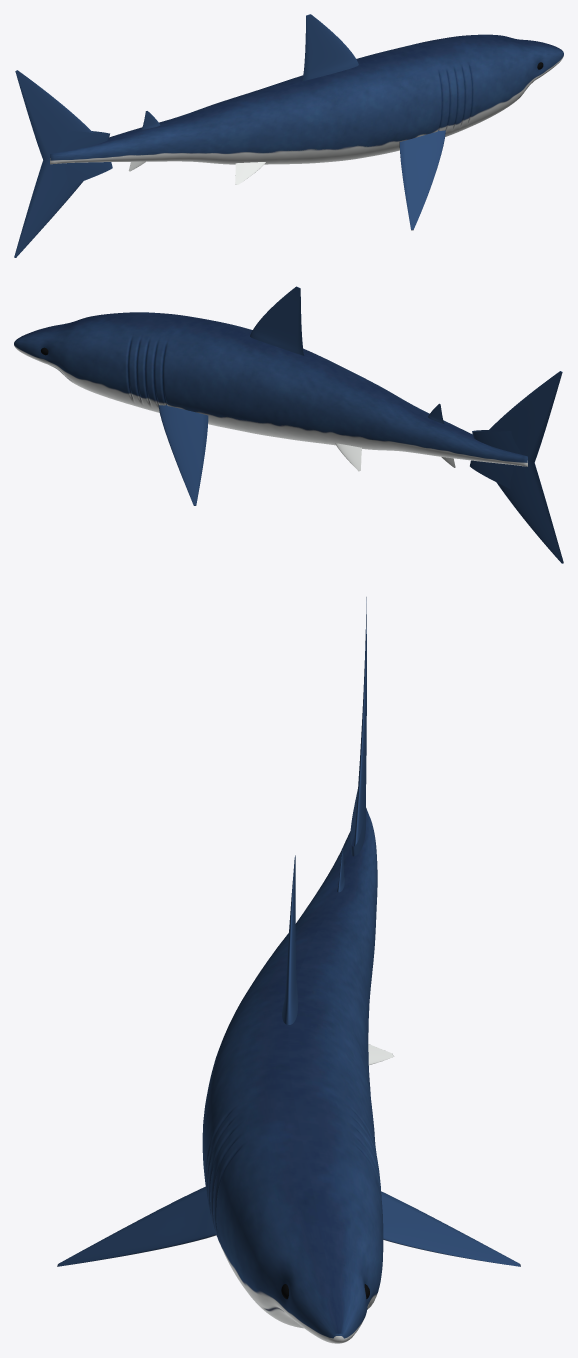
Rendered from shortfin_mako.glb.
3 views of the same model, one above another, from view 1: azimuth 30°, elevation 25°; view 2: azimuth 150°, elevation 25°; view 3: azimuth 270°, elevation 25° (orthographic). The views are drawn at different scales.
Parts seen in each view (by area): view 1: ShortfinMako_Body, ShortfinMako_Fins; view 2: ShortfinMako_Body, ShortfinMako_Fins; view 3: ShortfinMako_Body, ShortfinMako_Fins.
Boxes of the visible parts, bbox=[...] form: ShortfinMako_Body: bbox=[50, 34, 563, 164]; ShortfinMako_Fins: bbox=[14, 14, 445, 257]; ShortfinMako_Body: bbox=[14, 312, 527, 466]; ShortfinMako_Fins: bbox=[158, 286, 563, 563]; ShortfinMako_Body: bbox=[202, 808, 383, 1343]; ShortfinMako_Fins: bbox=[57, 597, 520, 1266].
Size of the model in its own units: 2.8 by 0.9344 by 1.04.
3 materials, 1 textured.
